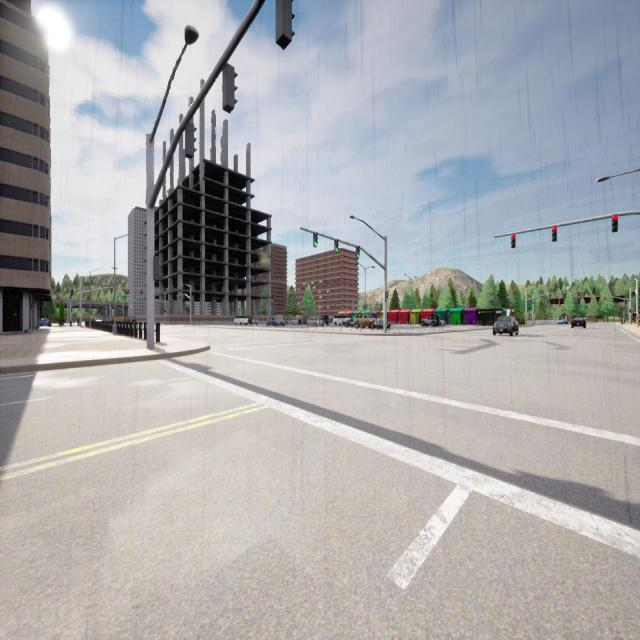Vehicle: (493, 316, 518, 336), (354, 314, 374, 328), (421, 316, 438, 326), (333, 316, 350, 326), (571, 317, 586, 328), (374, 318, 390, 328), (234, 315, 248, 325), (266, 319, 284, 326), (308, 318, 322, 326), (40, 318, 51, 326), (292, 317, 303, 325), (322, 316, 328, 326), (251, 318, 258, 326), (558, 320, 563, 325), (565, 320, 568, 324)
traffic_light: (276, 0, 295, 50), (223, 64, 237, 114), (185, 123, 197, 159), (154, 256, 160, 281), (612, 214, 618, 232), (552, 226, 557, 242), (313, 233, 317, 247), (512, 234, 516, 248), (334, 240, 338, 252), (356, 246, 360, 258), (385, 291, 388, 302), (134, 296, 136, 300), (164, 310, 166, 314), (629, 309, 631, 313), (604, 297, 606, 300), (124, 296, 125, 300), (578, 296, 580, 298), (590, 296, 592, 298)
